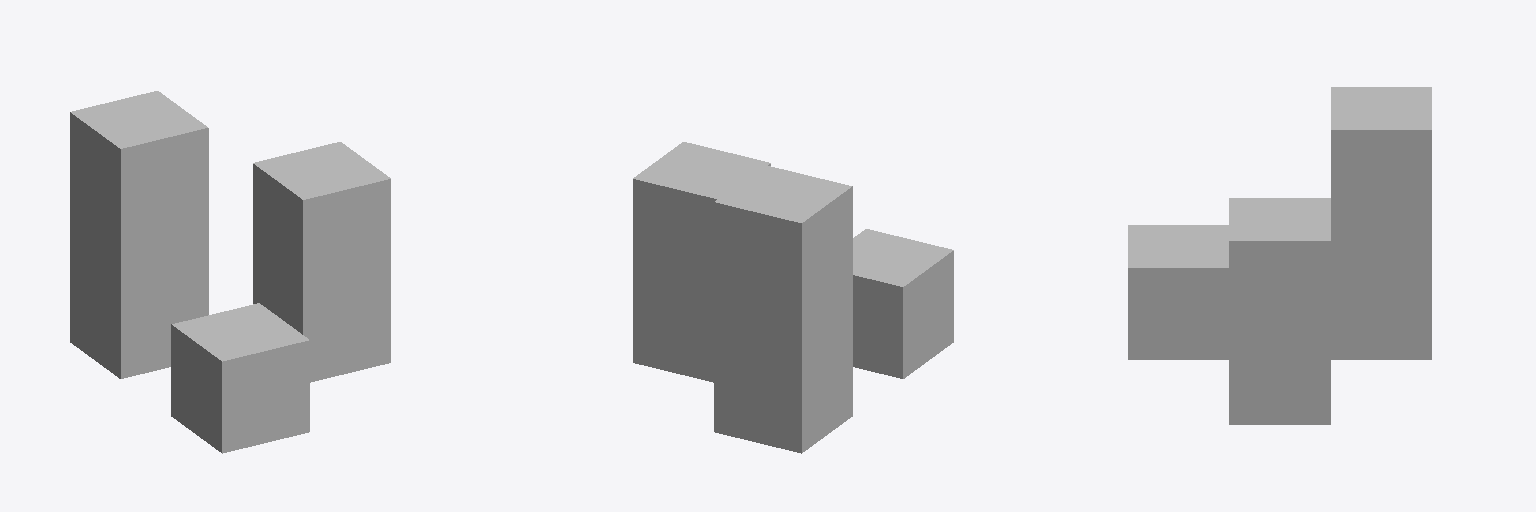
The model's file is rockPillars1-0.obj.
The picture shows the model from 3 angles: view 1: azimuth 30°, elevation 25°; view 2: azimuth 150°, elevation 25°; view 3: azimuth 270°, elevation 25°; orthographic projection.
Visible parts, largest first — view 1: object 1; view 2: object 1; view 3: object 1.
Boxes of the visible parts, box(x1,y1,x2,y2) form: object 1: box(70, 91, 390, 453); object 1: box(633, 142, 953, 453); object 1: box(1128, 87, 1431, 424).
Size of the model in its own units: 0.5 by 0.5 by 0.6.